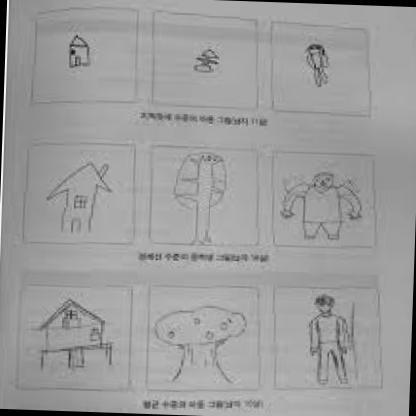apple: (204, 330, 215, 340), (167, 330, 175, 340)
branch_sharp: (177, 157, 224, 205)
crown_cloud: (154, 306, 248, 348)
crown_mushroom: (173, 151, 229, 211)
trunk_bark: (177, 348, 226, 375)
trunk_straight: (194, 212, 212, 236)
